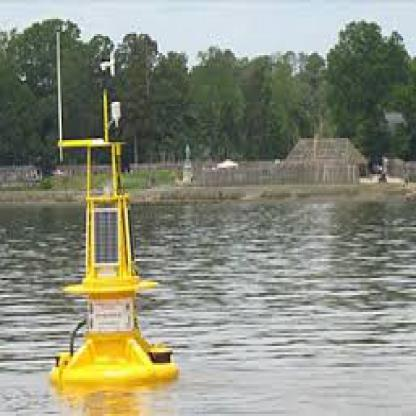buoy: (35, 17, 190, 393)
